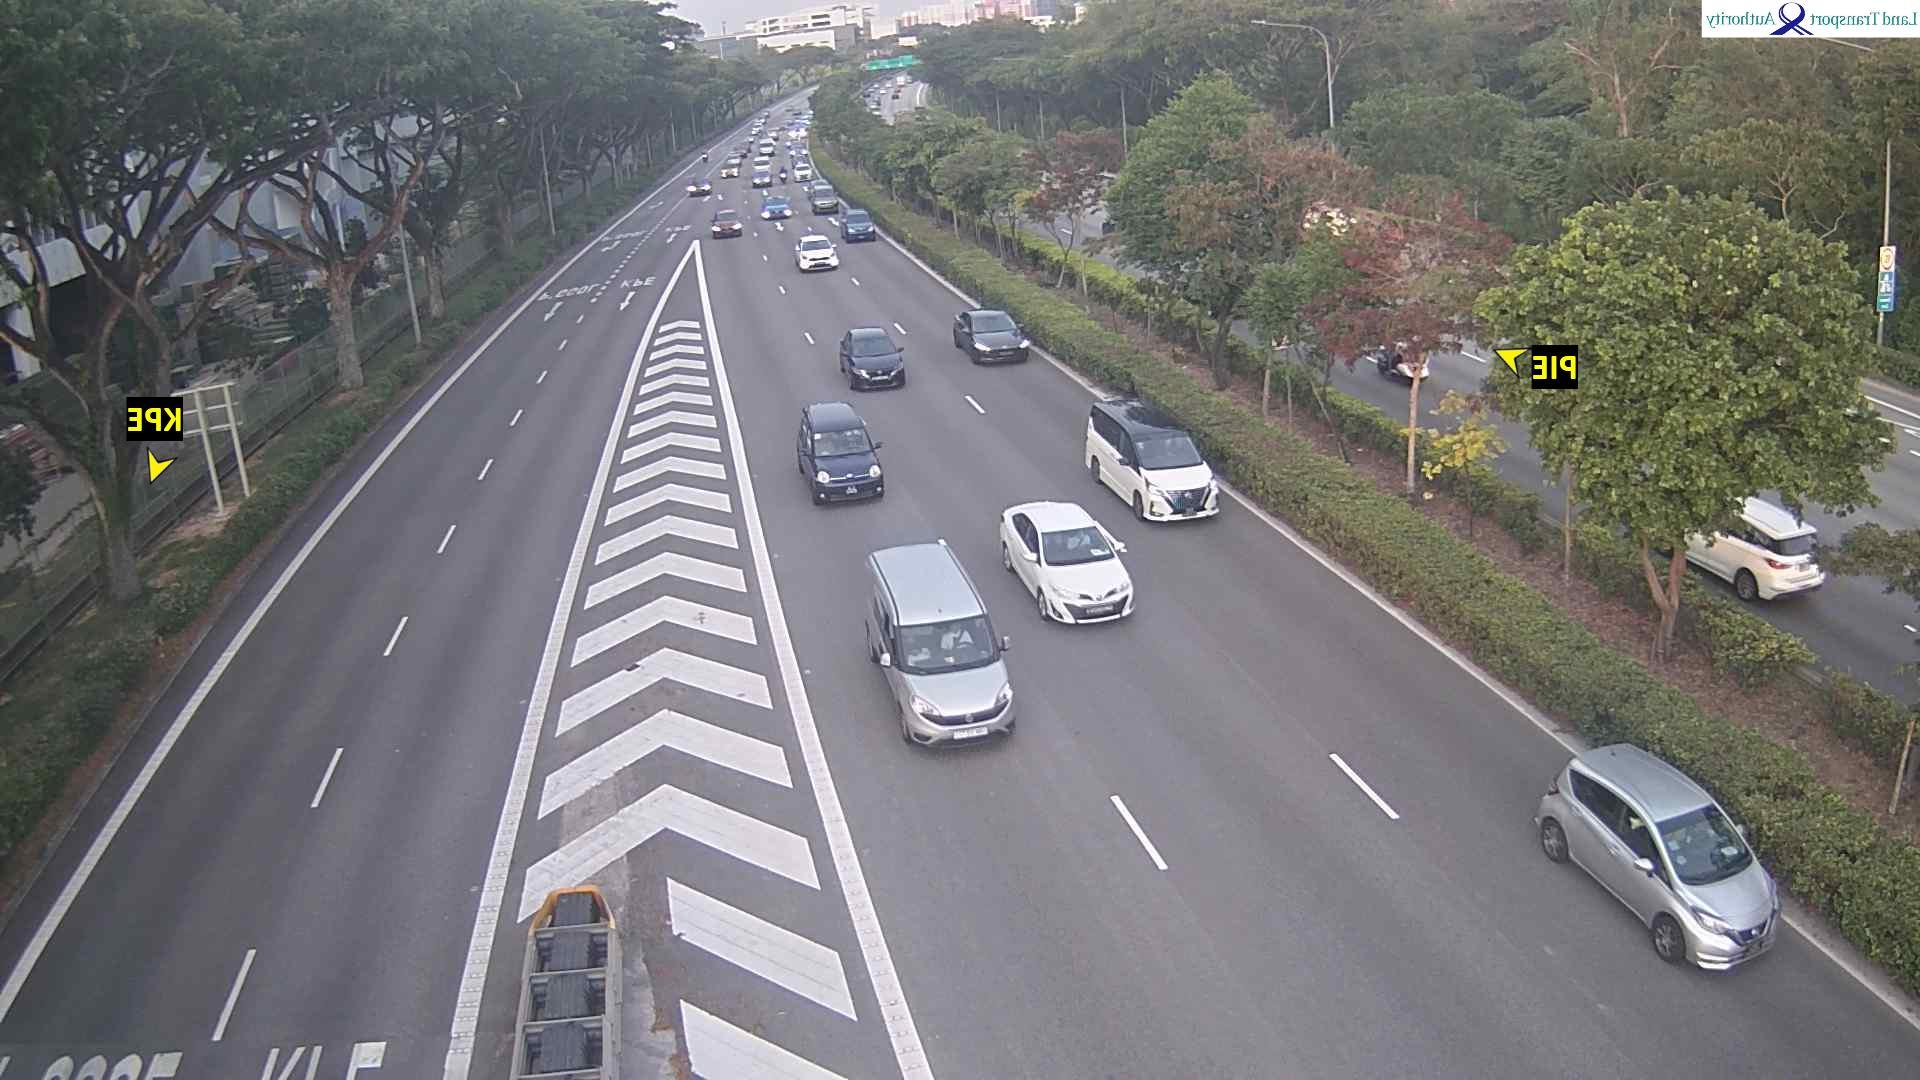cars: (1535, 740, 1782, 972), (864, 537, 1018, 746), (1085, 394, 1222, 524), (1000, 498, 1135, 625), (1677, 489, 1826, 603), (796, 400, 886, 505), (839, 324, 909, 390), (953, 307, 1033, 364), (795, 232, 840, 272), (843, 208, 877, 243), (711, 207, 744, 237), (761, 195, 795, 219), (811, 189, 841, 214), (752, 160, 774, 187), (721, 154, 742, 178), (687, 179, 713, 196), (794, 162, 815, 182), (758, 137, 778, 156)
motorcycle: (1378, 339, 1432, 385), (779, 164, 789, 186), (700, 149, 711, 162)
